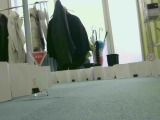stop: (28, 51, 49, 67)
